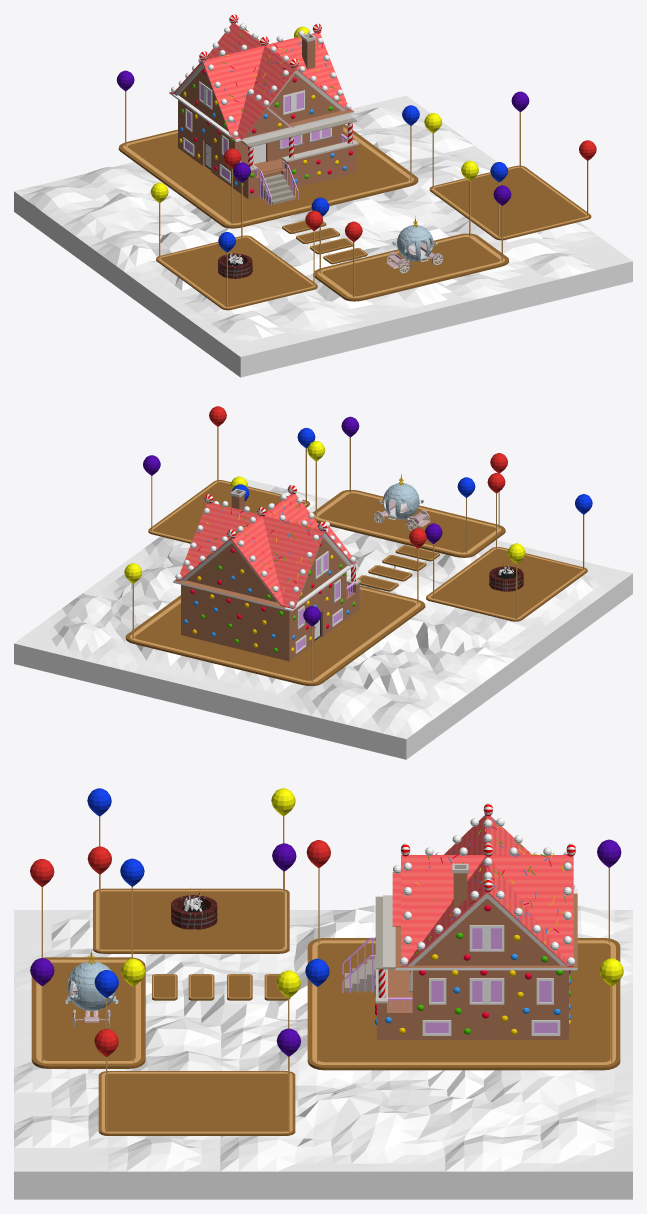
3 views of the same model, one above another, from view 1: azimuth 30°, elevation 25°; view 2: azimuth 150°, elevation 25°; view 3: azimuth 270°, elevation 25° (orthographic). The views are drawn at different scales.
Parts seen in each view (by area): view 1: Cube.013, Cube.1203, VEHICLES_FANTASY_CARRIAGE, OBJRANDOM_CAMPFIRE; view 2: Cube.013, Cube.1203, VEHICLES_FANTASY_CARRIAGE, OBJRANDOM_CAMPFIRE; view 3: Cube.013, Cube.1203, VEHICLES_FANTASY_CARRIAGE, OBJRANDOM_CAMPFIRE.
Boxes of the visible parts, x1=… form: Cube.013: x1=14, y1=26, x2=632, y2=377; Cube.1203: x1=169, y1=14, x2=359, y2=205; VEHICLES_FANTASY_CARRIAGE: x1=386, y1=216, x2=443, y2=273; OBJRANDOM_CAMPFIRE: x1=218, y1=252, x2=252, y2=278; Cube.013: x1=14, y1=406, x2=632, y2=759; Cube.1203: x1=173, y1=485, x2=361, y2=661; VEHICLES_FANTASY_CARRIAGE: x1=373, y1=474, x2=430, y2=530; OBJRANDOM_CAMPFIRE: x1=489, y1=563, x2=523, y2=591; Cube.013: x1=14, y1=788, x2=632, y2=1199; Cube.1203: x1=342, y1=803, x2=577, y2=1039; VEHICLES_FANTASY_CARRIAGE: x1=65, y1=949, x2=118, y2=1027; OBJRANDOM_CAMPFIRE: x1=171, y1=891, x2=217, y2=929.
Size of the model in its own units: 4000 by 1790 by 4000.
33 materials, 2 textured.
